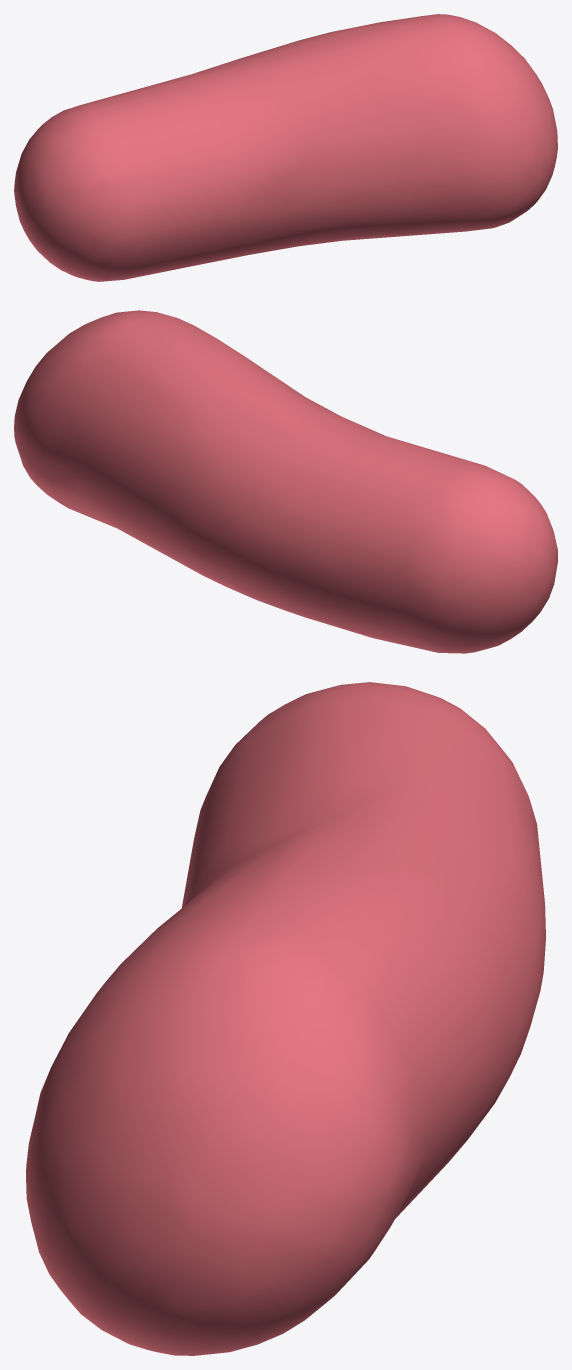
The model's file is fma50784_fj4704.glb.
3 views of the same model, one above another, from view 1: azimuth 30°, elevation 25°; view 2: azimuth 150°, elevation 25°; view 3: azimuth 270°, elevation 25° (orthographic). The views are drawn at different scales.
Visible parts, largest first — view 1: FMA50784_FJ4704; view 2: FMA50784_FJ4704; view 3: FMA50784_FJ4704.
Part boxes in pixels (box(x1,y1,x2,y2)): FMA50784_FJ4704: box(14, 14, 557, 281); FMA50784_FJ4704: box(14, 310, 557, 653); FMA50784_FJ4704: box(26, 682, 545, 1355).
Bounding box in the file's own units: 0.0245 × 0.00944 × 0.0113.
